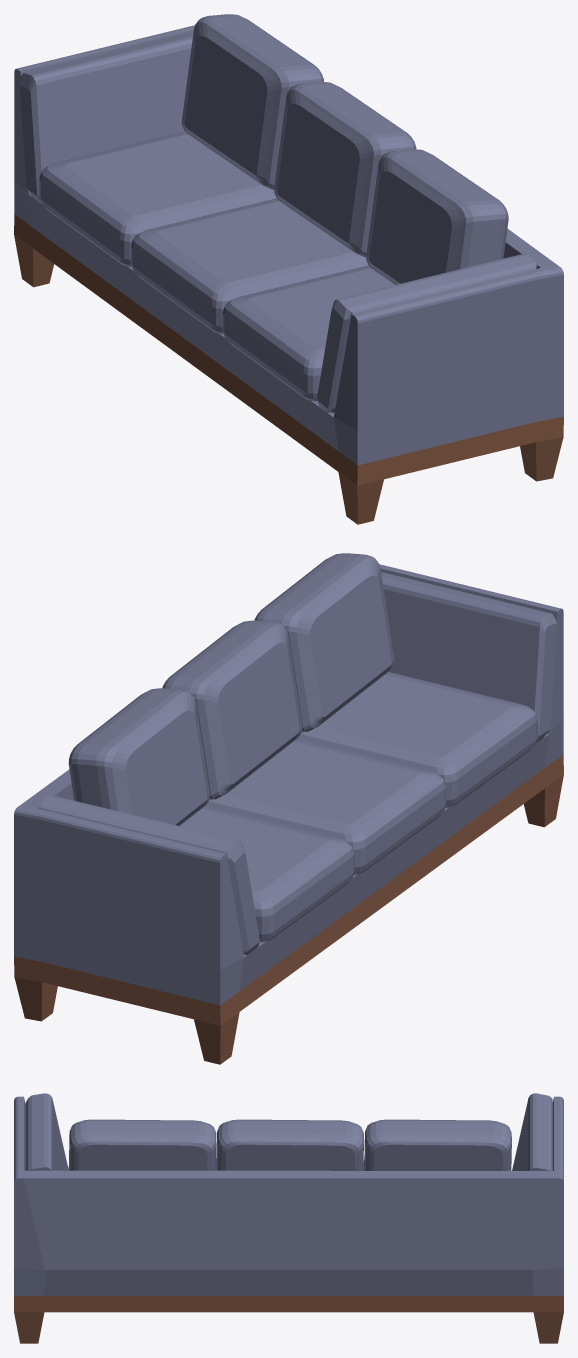
File: couchUVd.fbx
The picture shows the model from 3 angles, top to bottom: view 1: azimuth 30°, elevation 25°; view 2: azimuth 150°, elevation 25°; view 3: azimuth 270°, elevation 25°; orthographic projection. The views are drawn at different scales.
Parts seen in each view (by area): view 1: Cube; view 2: Cube; view 3: Cube.
Part boxes in pixels (left/top/right/bottom): Cube: left=14, top=14, right=563, bottom=524; Cube: left=14, top=553, right=563, bottom=1064; Cube: left=14, top=1093, right=563, bottom=1343.
Bounding box in the file's own units: 420 × 458 × 1113.
